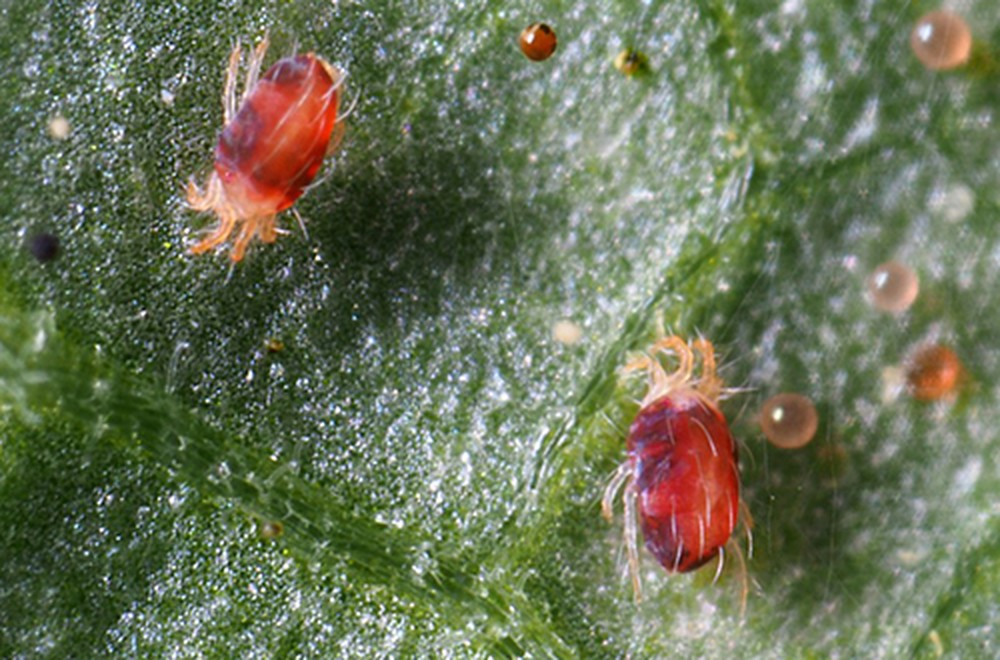Aracnido Rojo: (581, 339, 771, 604), (164, 36, 363, 276)
